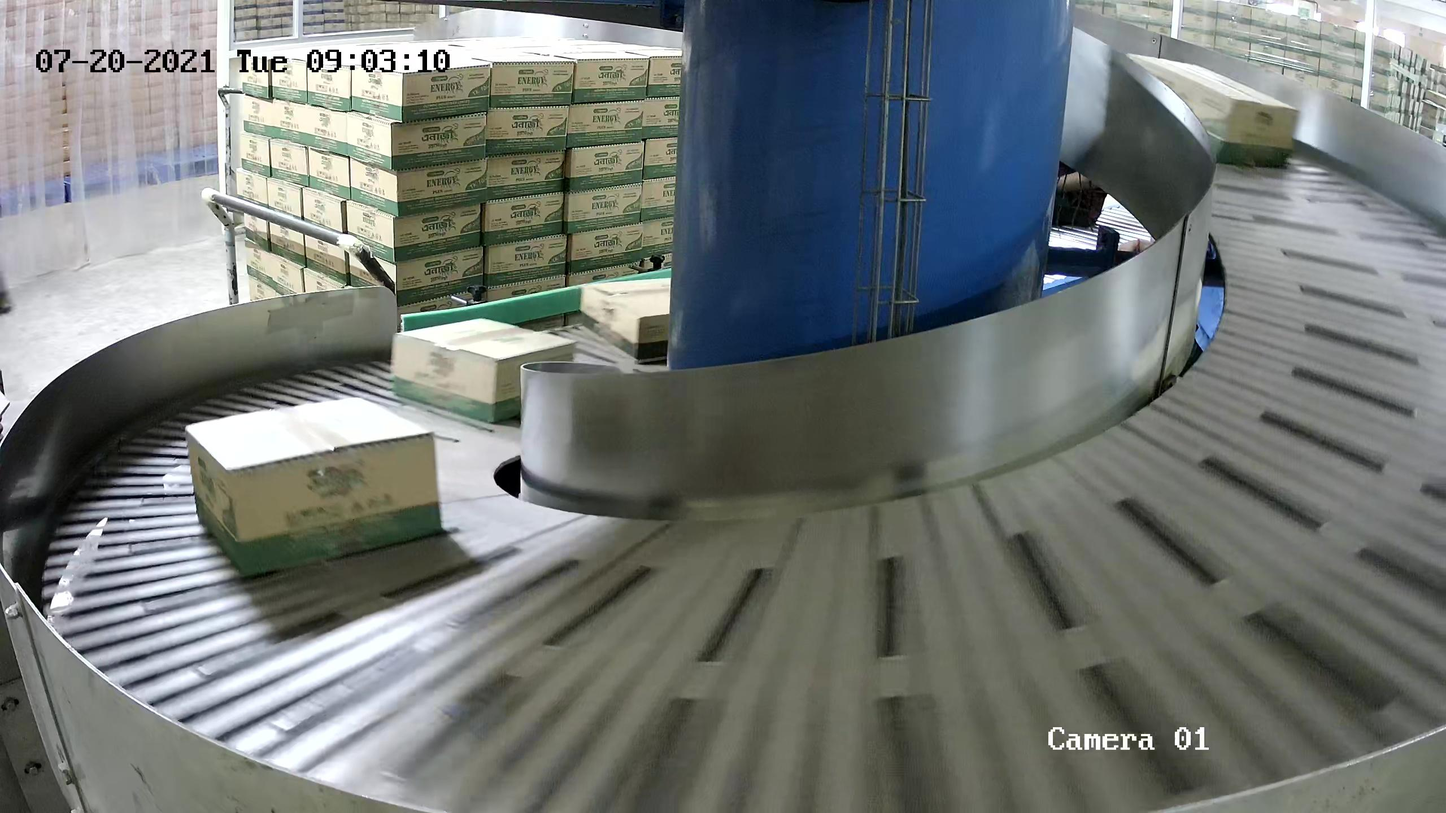Box: (187, 398, 444, 573), (1118, 51, 1300, 168), (386, 315, 580, 422), (579, 273, 773, 366)
